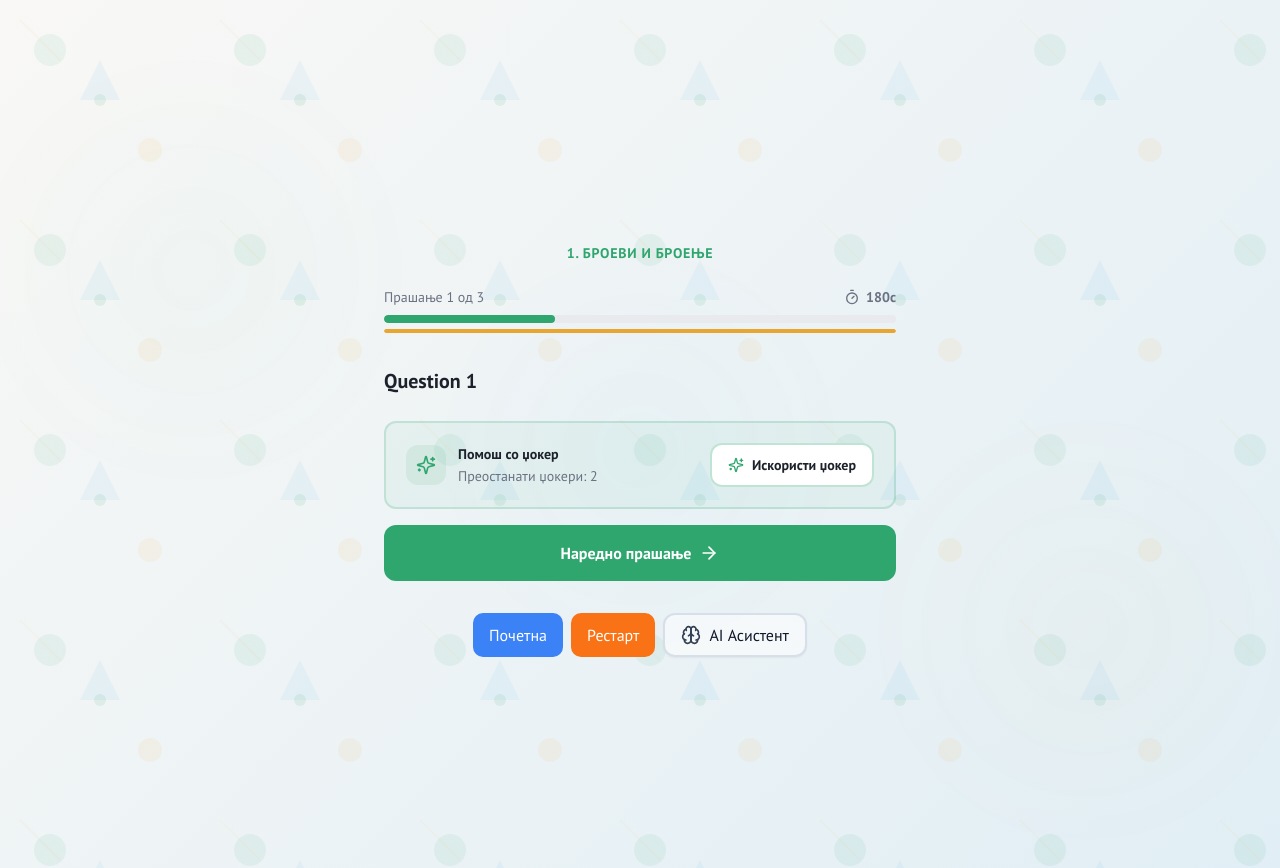
paper quiz jokers › displays zero usage when all available jokers were left unused
Step 1. Click the button "Наредно прашање" → (640, 553), box [384,525,896,581]
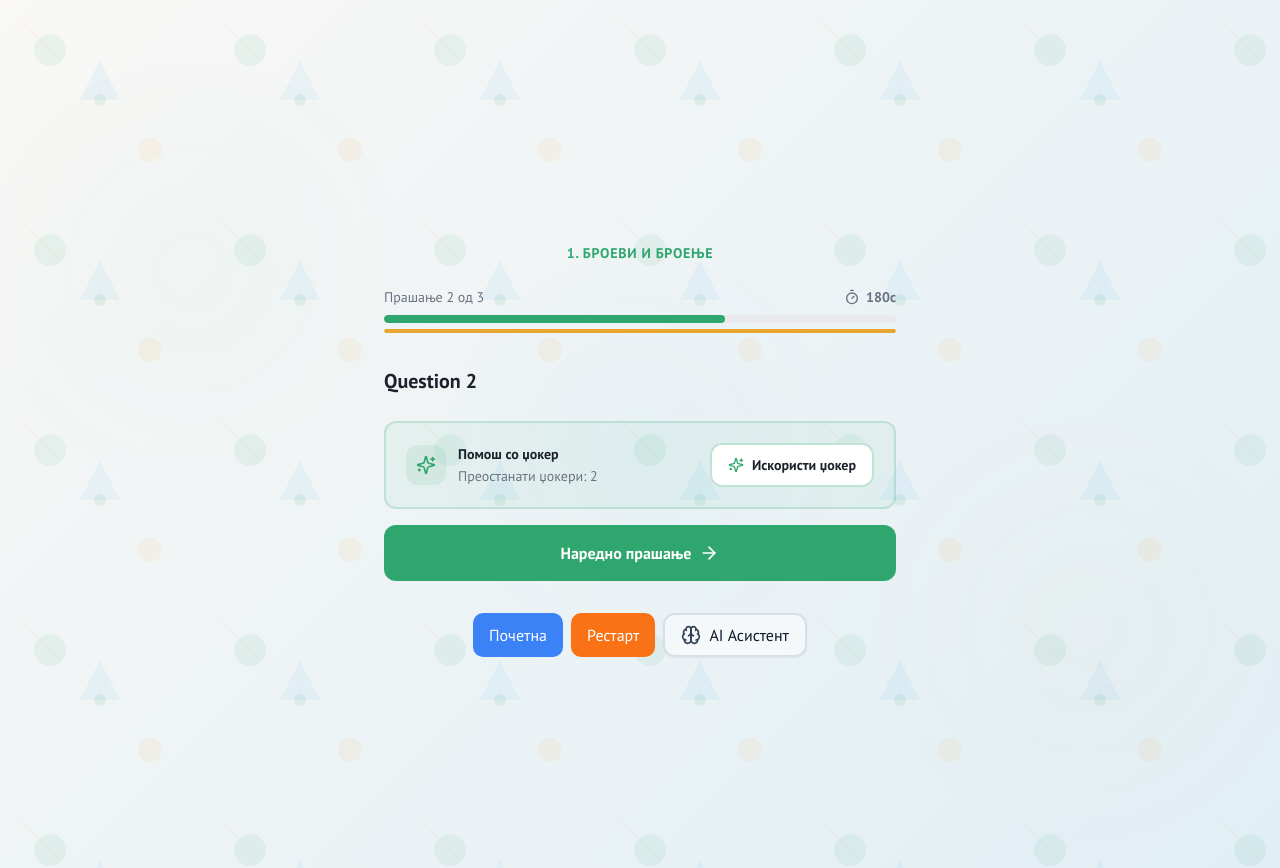
Step 2. Click the button "Наредно прашање" → (640, 553), box [384,525,896,581]
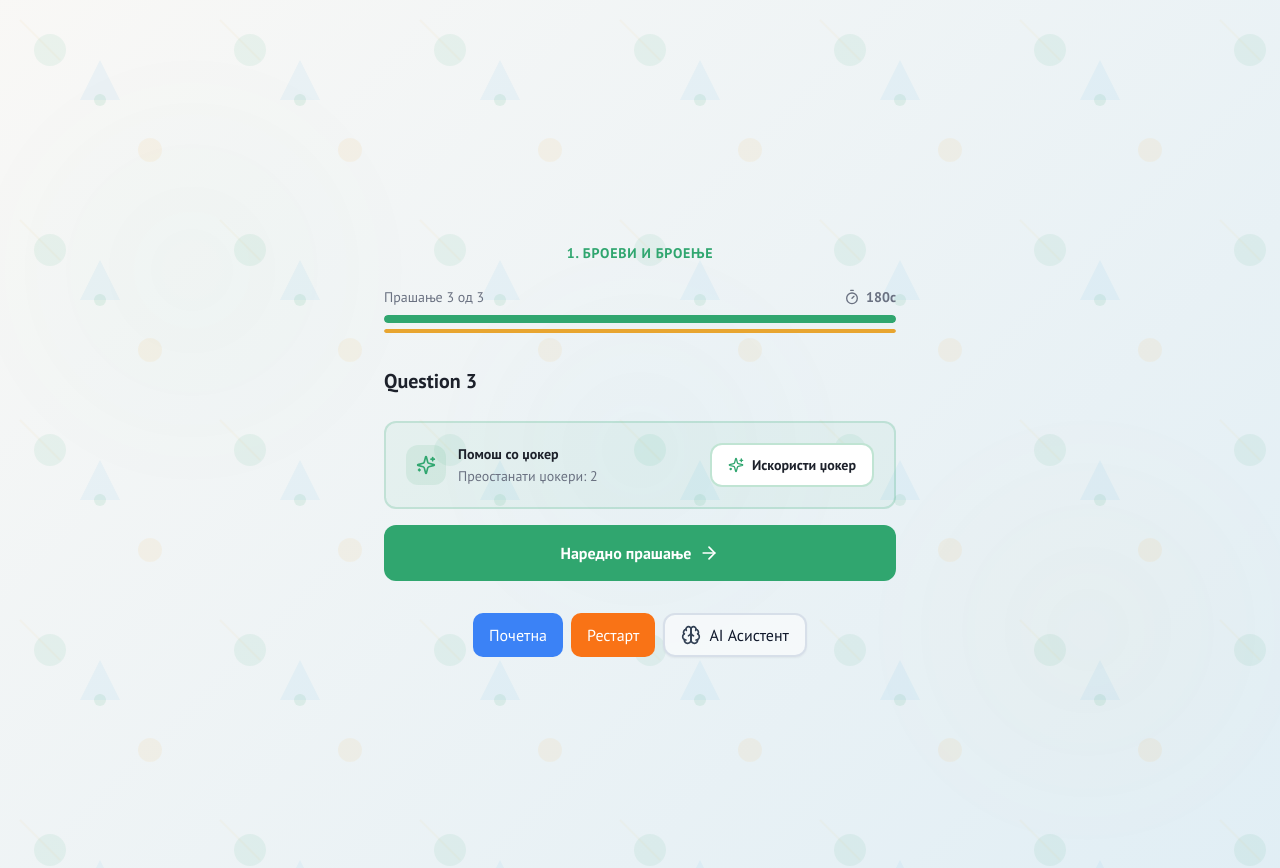
Step 3. Click the button "Наредно прашање" → (640, 553), box [384,525,896,581]
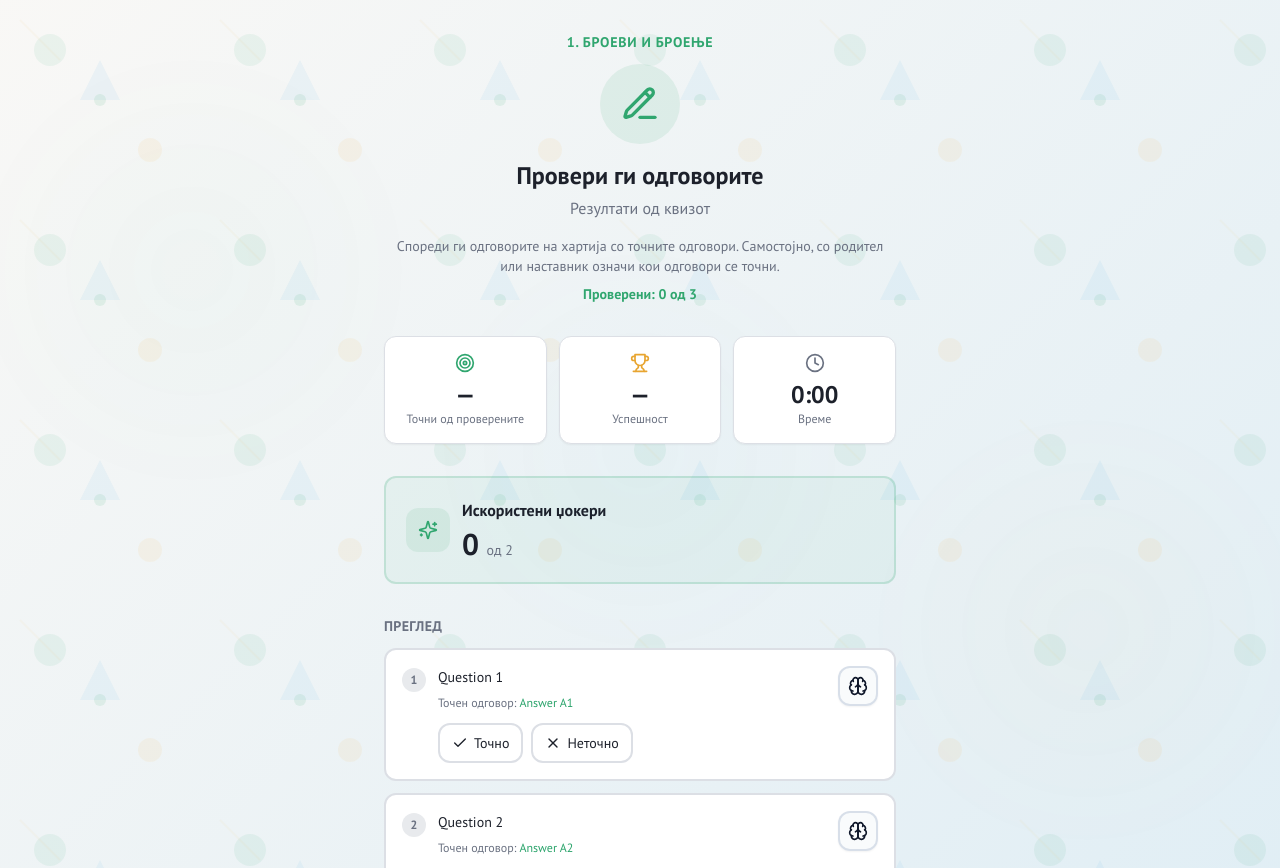
Expected: the element named "Џокери во квизот" shows "0 од 2", [384,476,896,584]
